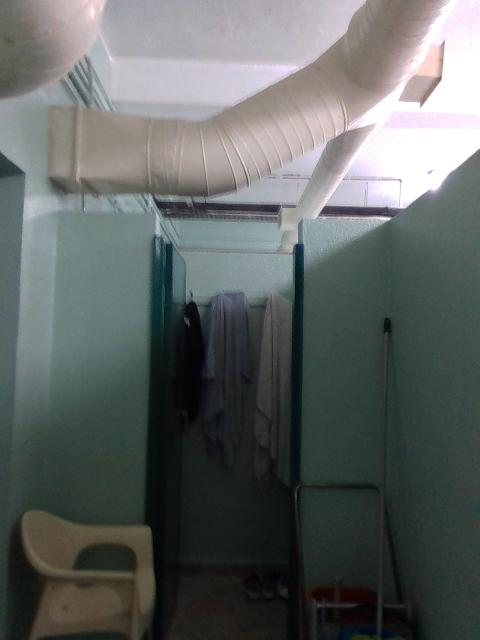open_door: (148, 215, 306, 638)
